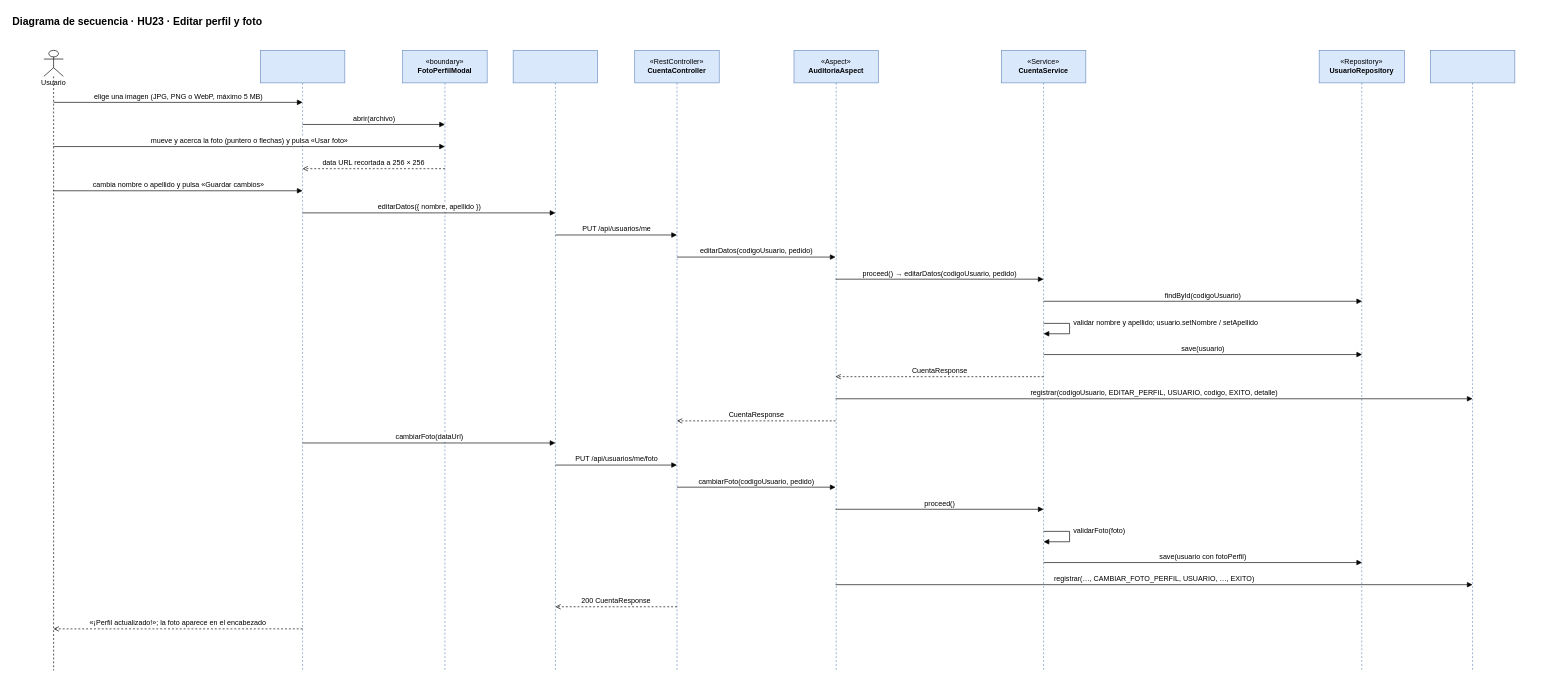
Image size: 1552x682. Some labels were removed from this diagram. Each missing label, with the box of its shape:
«boundary» EditarPerfilPage: (260, 50, 345, 670)
«module» cuentaService.js: (513, 50, 598, 670)
«Service» LogService: (1430, 50, 1515, 670)
